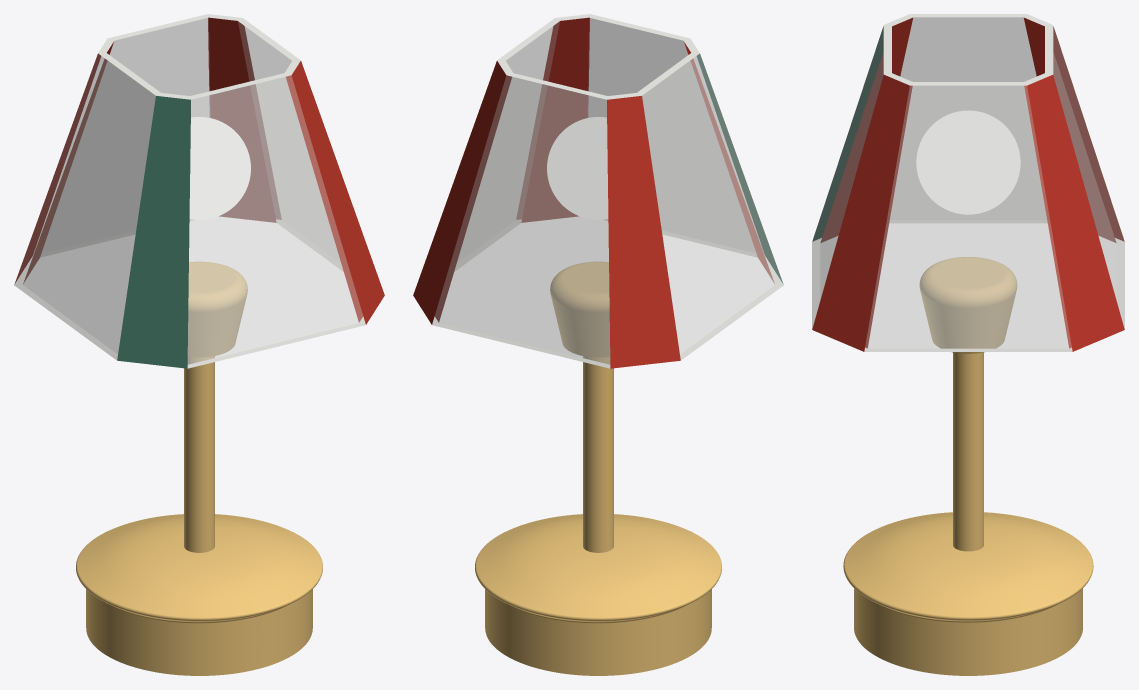
File: clara-d.glb
The picture shows the model from 3 angles, left to right: view 1: azimuth 30°, elevation 25°; view 2: azimuth 150°, elevation 25°; view 3: azimuth 270°, elevation 25°; orthographic projection.
Visible parts, largest first — view 1: Clara D.; view 2: Clara D.; view 3: Clara D..
Boxes of the visible parts, x1=… form: Clara D.: x1=14, y1=14, x2=384, y2=675; Clara D.: x1=413, y1=14, x2=783, y2=675; Clara D.: x1=812, y1=14, x2=1124, y2=675.
Size of the model in its own units: 0.12 by 0.2446 by 0.12.
